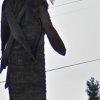Statue: (2, 1, 73, 100)
